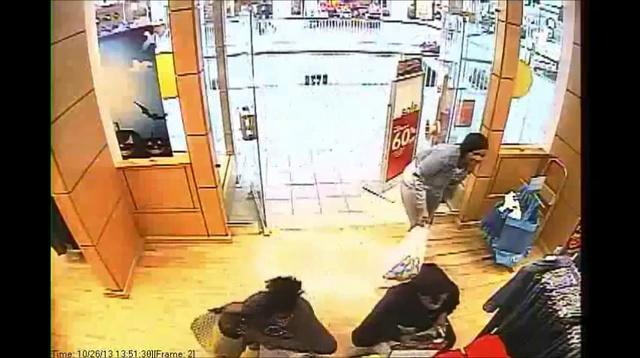Customer-Bagpack: (373, 216, 422, 280)
Regular: (408, 107, 498, 223)
Shoplifting: (225, 244, 339, 358), (350, 242, 456, 358)
